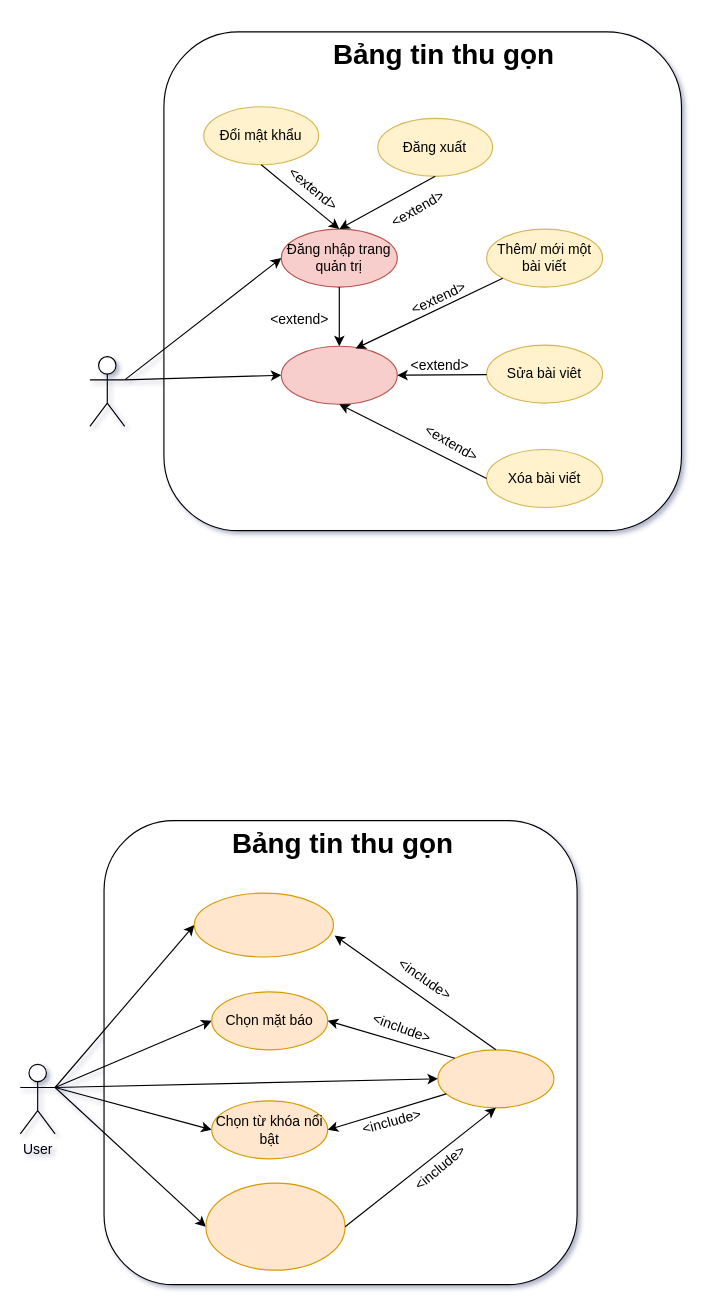
This 709x1312 diagram has some shape labels left out. Each missing label, with the centre of its shape:
Admin: point 107,391
Chuyển hướng tới trang website gốc chứa nguồn tin: point 275,1226
Tìm kiếm theo từ khóa: point 263,924
Xem bài viết: point 495,1078
Xem danh sách: point 338,374
